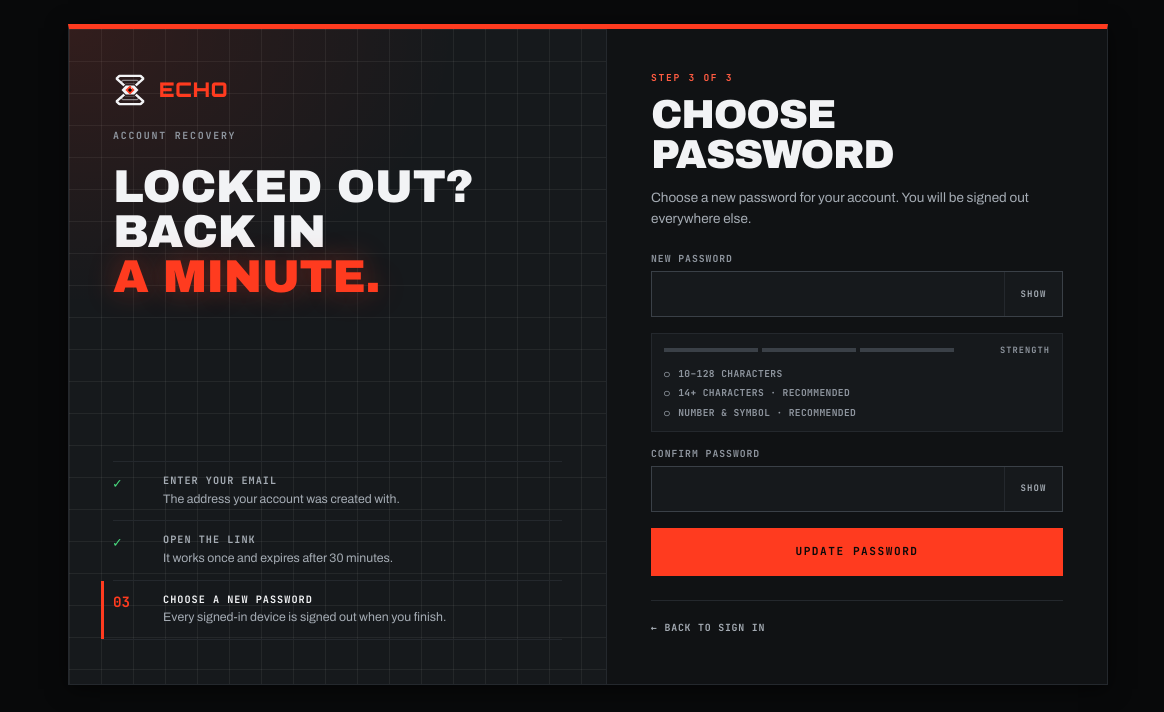
PasswordResetPage — choose a new password › sends the token and password, then shows success and re-reads the session
The width and height of the screenshot is (1164, 712).
Type "a-new-password-1" into the password field labelled "NEW PASSWORD" at (828, 294), box [652, 272, 1004, 316]
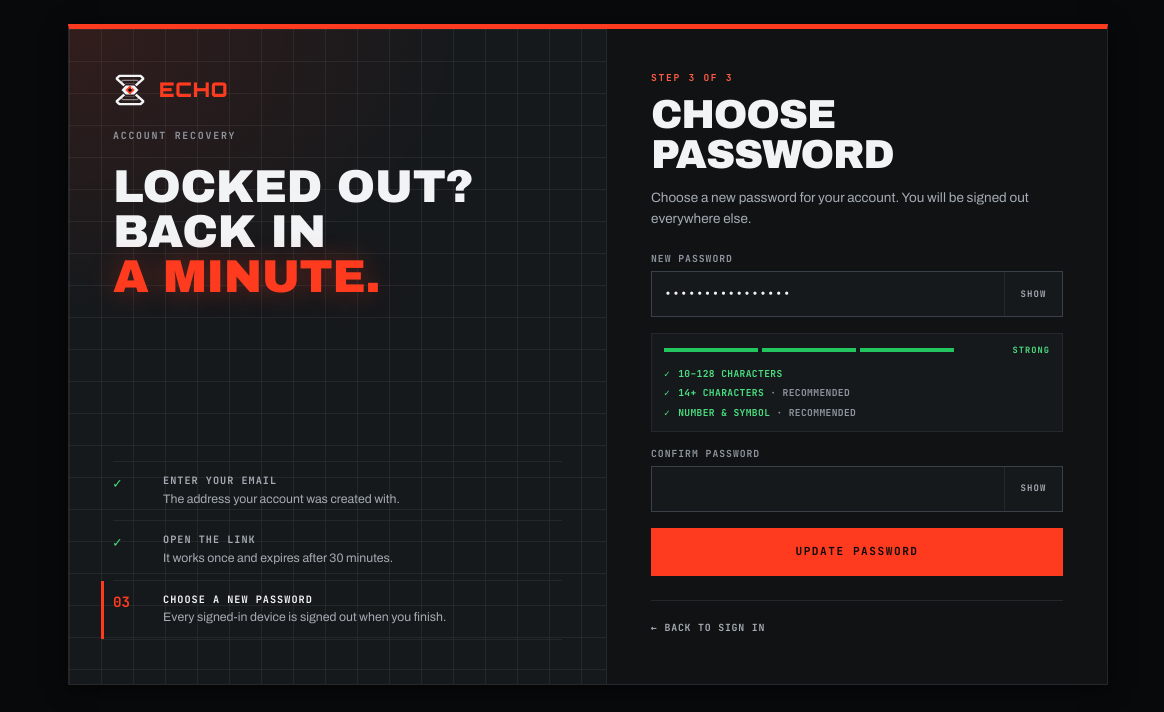
Type "a-new-password-1" into the password field labelled "CONFIRM PASSWORD" at (828, 489), box [652, 467, 1004, 511]
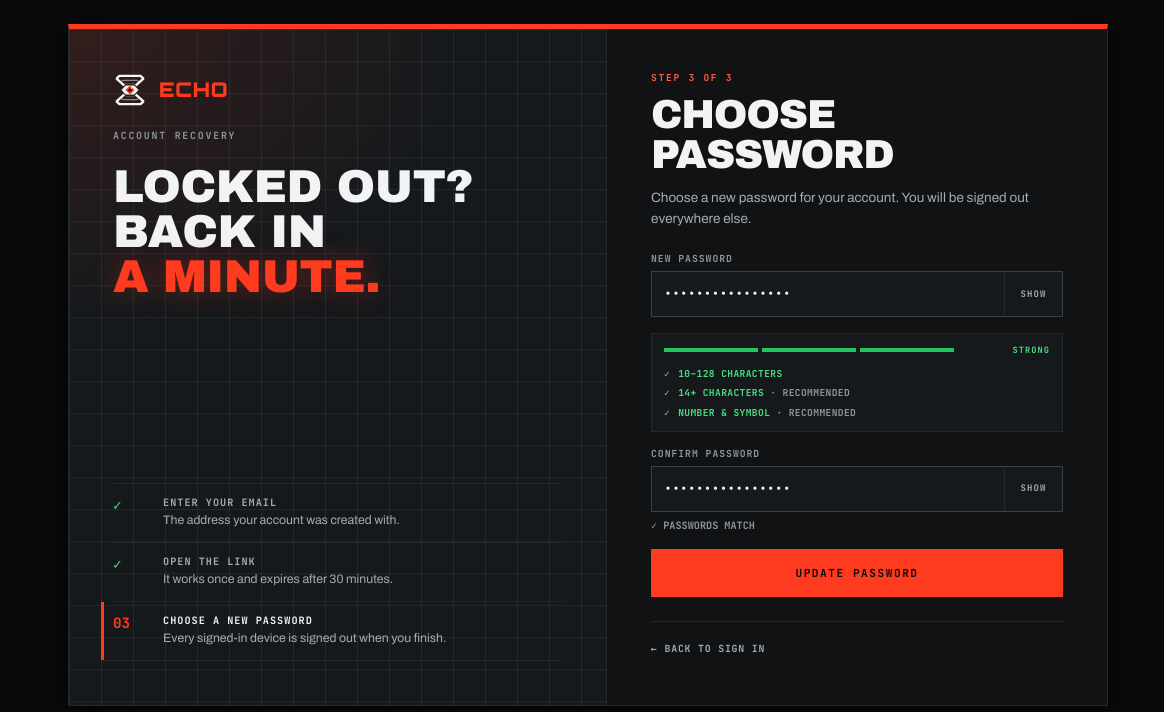
Click the button "UPDATE PASSWORD" at (857, 573), box [651, 549, 1063, 597]
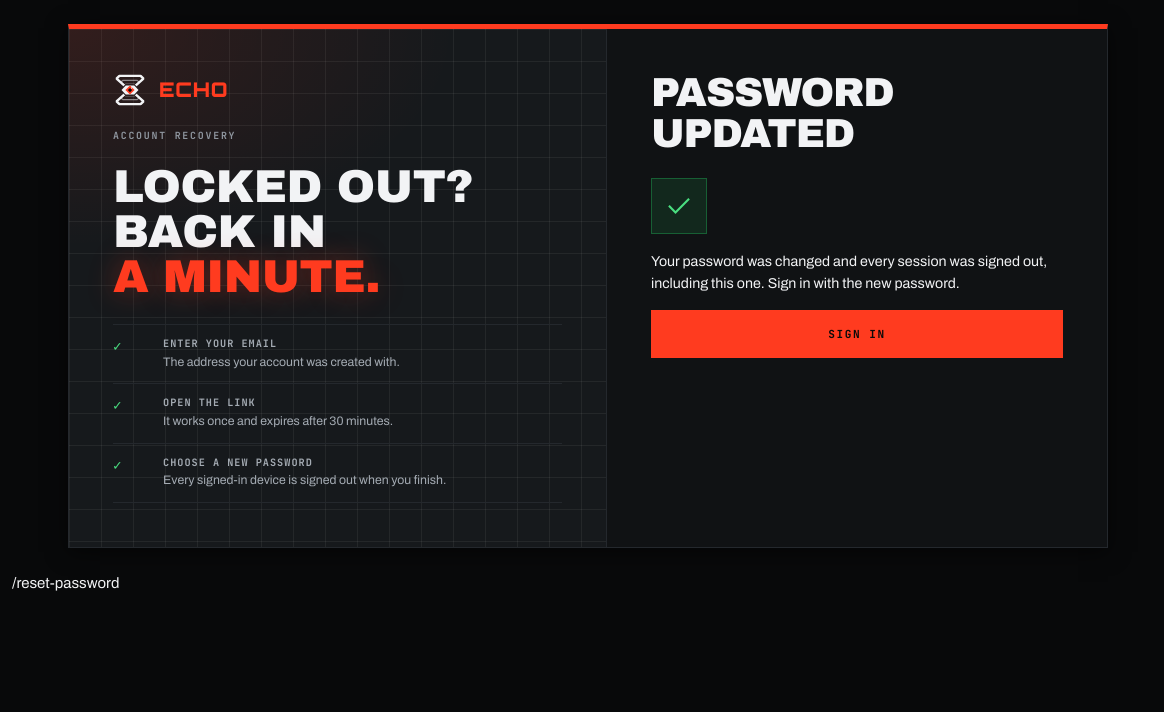
expect the number of list items with class "is-done" is 3: met, box [113, 325, 562, 384]; [113, 384, 562, 444]; [113, 444, 562, 503]
expect the heading "PASSWORD UPDATED" is shown: met, box [651, 70, 894, 156]
expect the text with test id "where" reads "/reset-password": met, box [12, 575, 119, 591]
